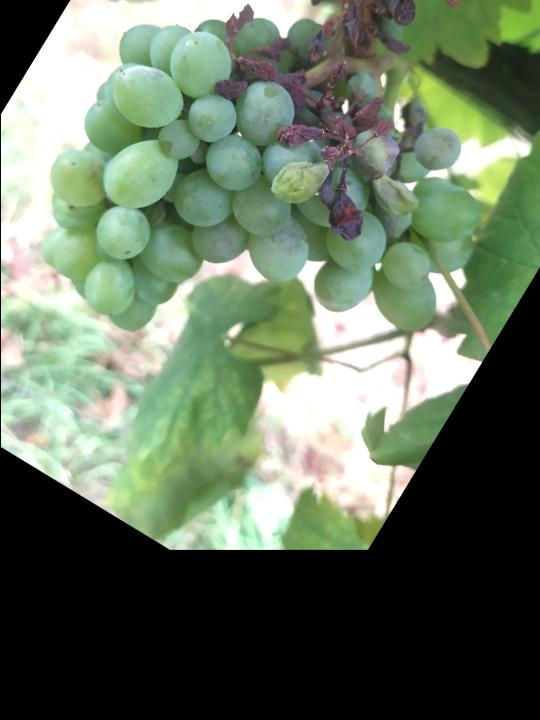grape: (0, 0, 540, 468)
